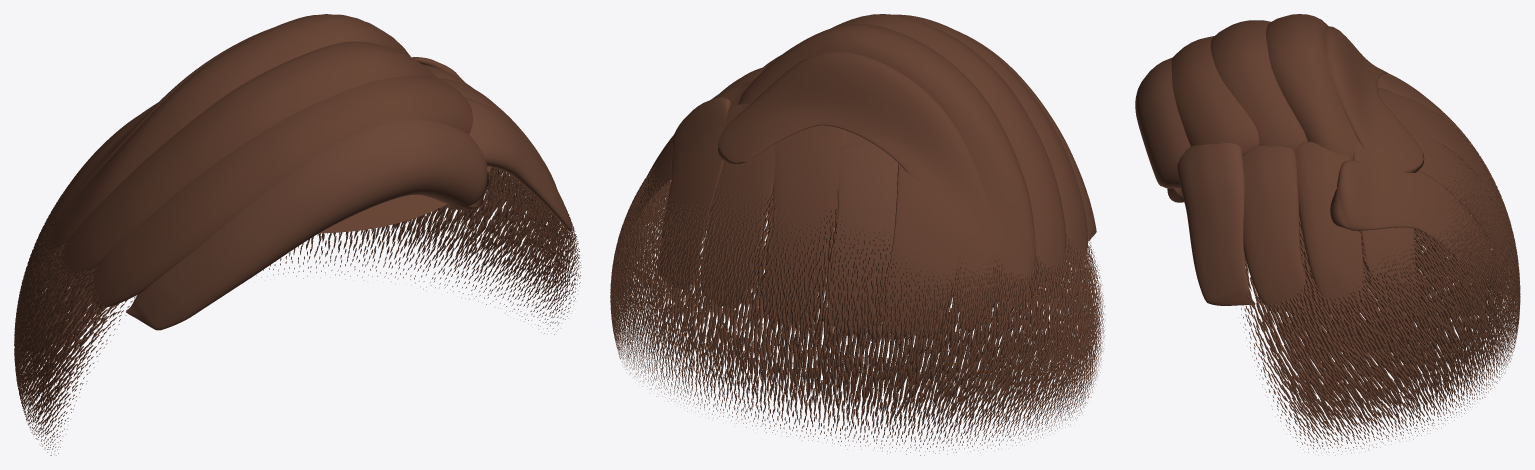
The model's file is Masculine-taper-ears254-hair.glb.
3 renders of one model, left to right at view 1: azimuth 30°, elevation 25°; view 2: azimuth 150°, elevation 25°; view 3: azimuth 270°, elevation 25°, orthographic. The views are drawn at different scales.
Parts seen in each view (by area): view 1: 226 hair / Hair252 / sculpted locks, 226 hair / Hair252 / gentle tonal variation, 226 hair / Hair254 / rooted short groom; view 2: 226 hair / Hair252 / sculpted locks, 226 hair / Hair254 / rooted short groom, 226 hair / Hair252 / gentle tonal variation; view 3: 226 hair / Hair252 / sculpted locks, 226 hair / Hair254 / rooted short groom, 226 hair / Hair252 / gentle tonal variation.
Boxes of the visible parts, x1,y1,x2,y2 form: 226 hair / Hair252 / sculpted locks: (36,14,556,307); 226 hair / Hair252 / gentle tonal variation: (126,97,571,330); 226 hair / Hair254 / rooted short groom: (14,166,581,455); 226 hair / Hair252 / sculpted locks: (631,14,1087,335); 226 hair / Hair254 / rooted short groom: (610,162,1105,455); 226 hair / Hair252 / gentle tonal variation: (764,32,1096,333); 226 hair / Hair252 / sculpted locks: (1171,14,1506,314); 226 hair / Hair254 / rooted short groom: (1238,111,1520,455); 226 hair / Hair252 / gentle tonal variation: (1135,58,1472,305).
Bounding box in the file's own units: 0.9716 × 0.6881 × 0.7405.
